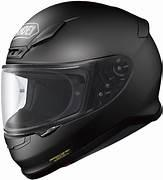Helmet: (3, 0, 163, 180)
